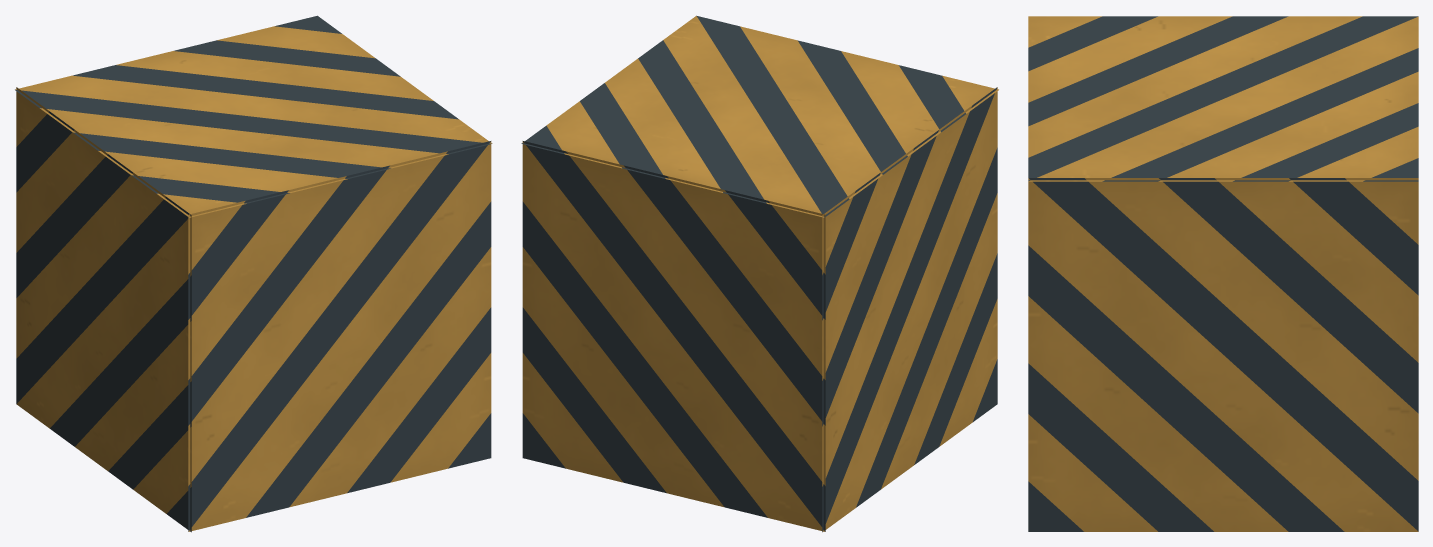
Rendered from hazard-block.glb.
3 renders of one model, left to right at view 1: azimuth 30°, elevation 25°; view 2: azimuth 150°, elevation 25°; view 3: azimuth 270°, elevation 25°, orthographic. The views are drawn at different scales.
Visible parts, largest first — view 1: hazard-block; view 2: hazard-block; view 3: hazard-block.
Part boxes in pixels (left/top/right/bottom): hazard-block: left=15, top=15, right=492, bottom=532; hazard-block: left=521, top=15, right=998, bottom=532; hazard-block: left=1028, top=16, right=1418, bottom=531.
Size of the model in its own units: 1 by 1 by 1.
Materials: 3 (1 with a texture image).
